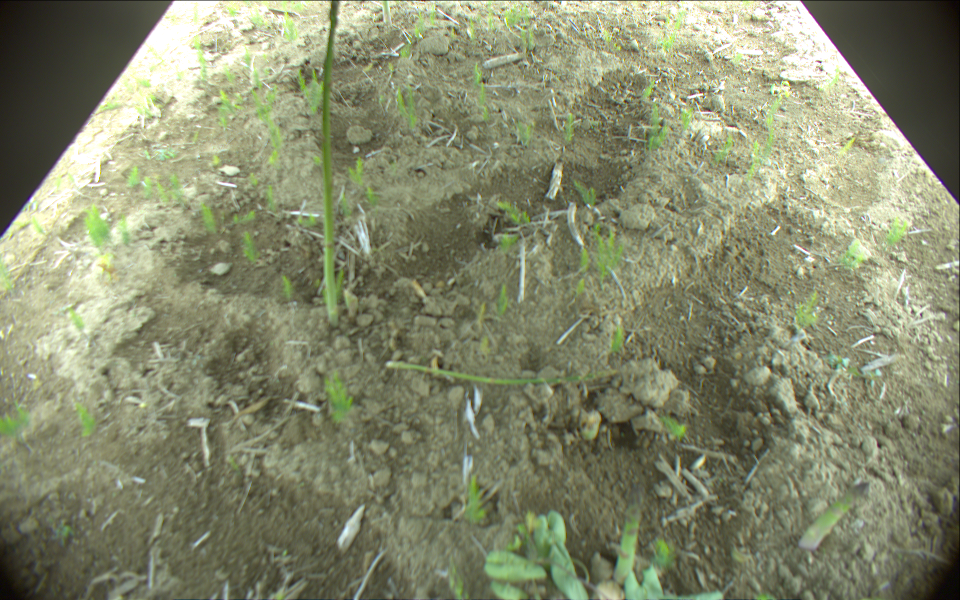aspa: (321, 1, 339, 327), (387, 361, 626, 384), (800, 481, 869, 549), (617, 482, 645, 583), (382, 1, 393, 24)
